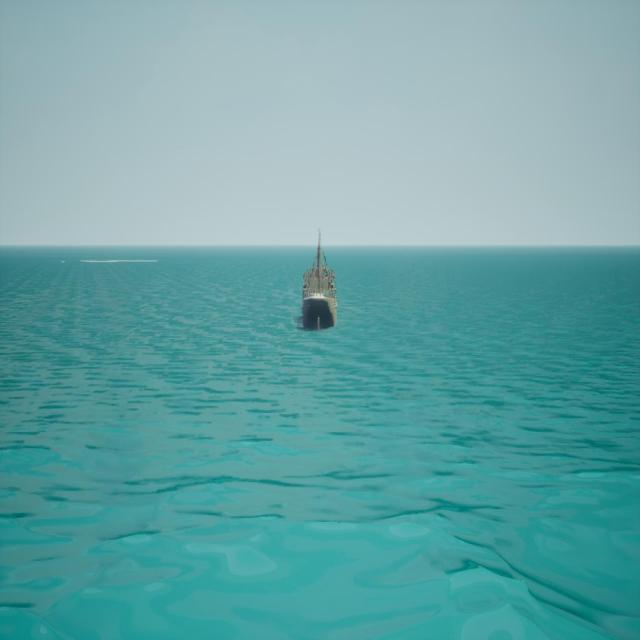fishing ship: (302, 229, 337, 334)
